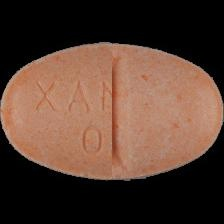0009-0055: (0, 0, 224, 224)
